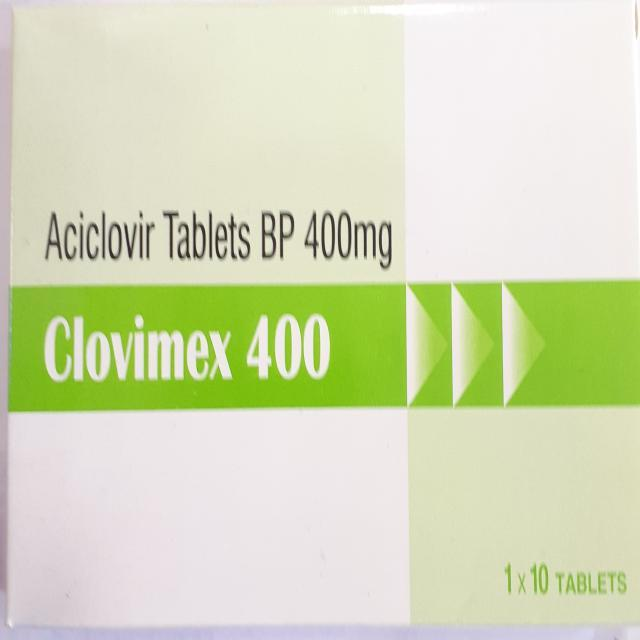drug-name: (44, 312, 332, 386)
